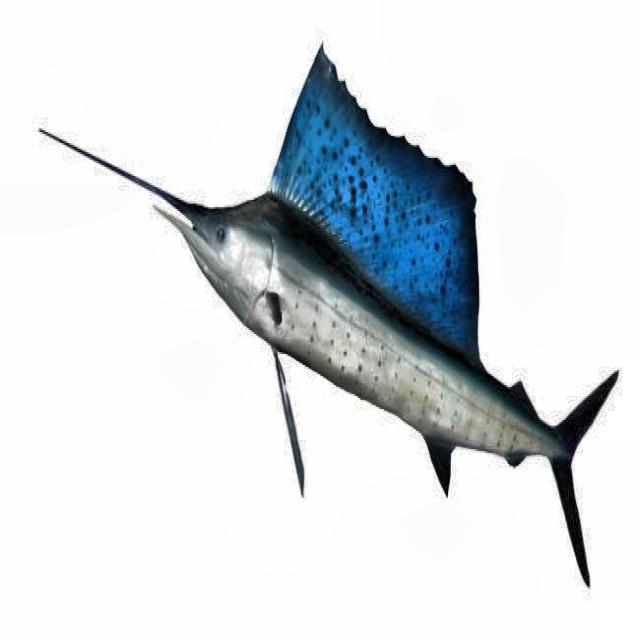fish: (38, 38, 620, 590)
